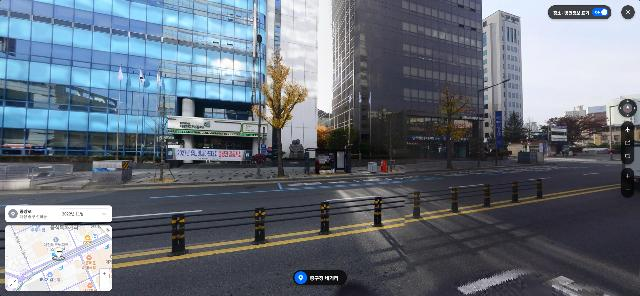ginkgo: (250, 45, 309, 177), (436, 84, 474, 168)
other: (539, 113, 600, 154), (502, 108, 534, 152)
